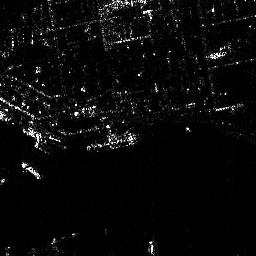ship: (85, 131, 142, 151), (20, 160, 41, 180)
